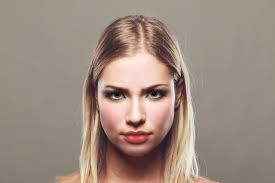no-mask: (92, 35, 186, 161)
